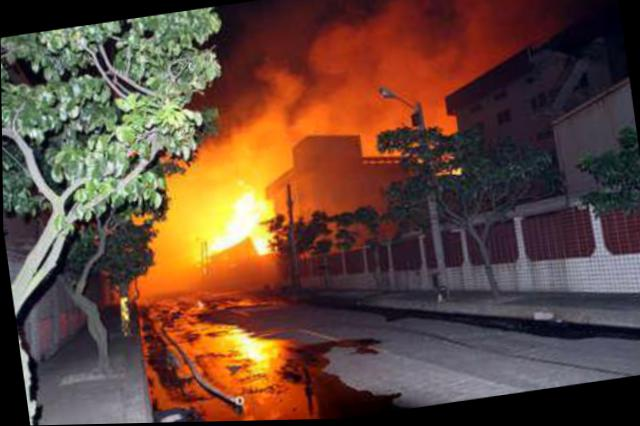fire: (195, 176, 281, 265), (224, 324, 277, 371)
